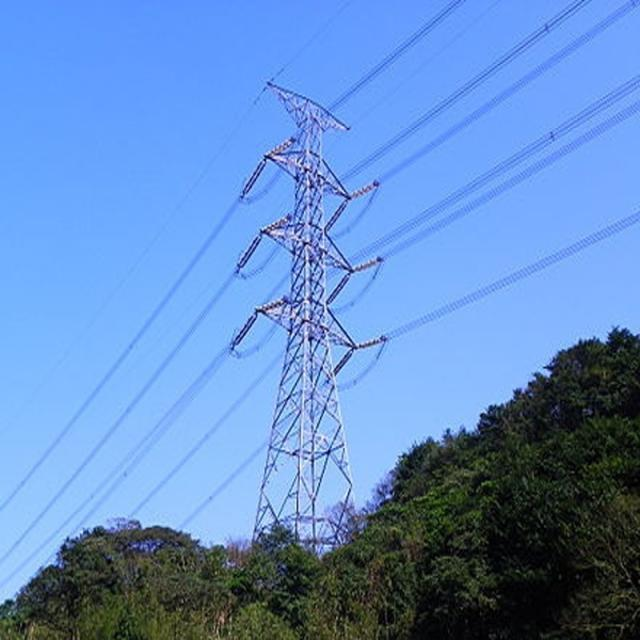non-critical vegetation: (238, 67, 368, 538)
